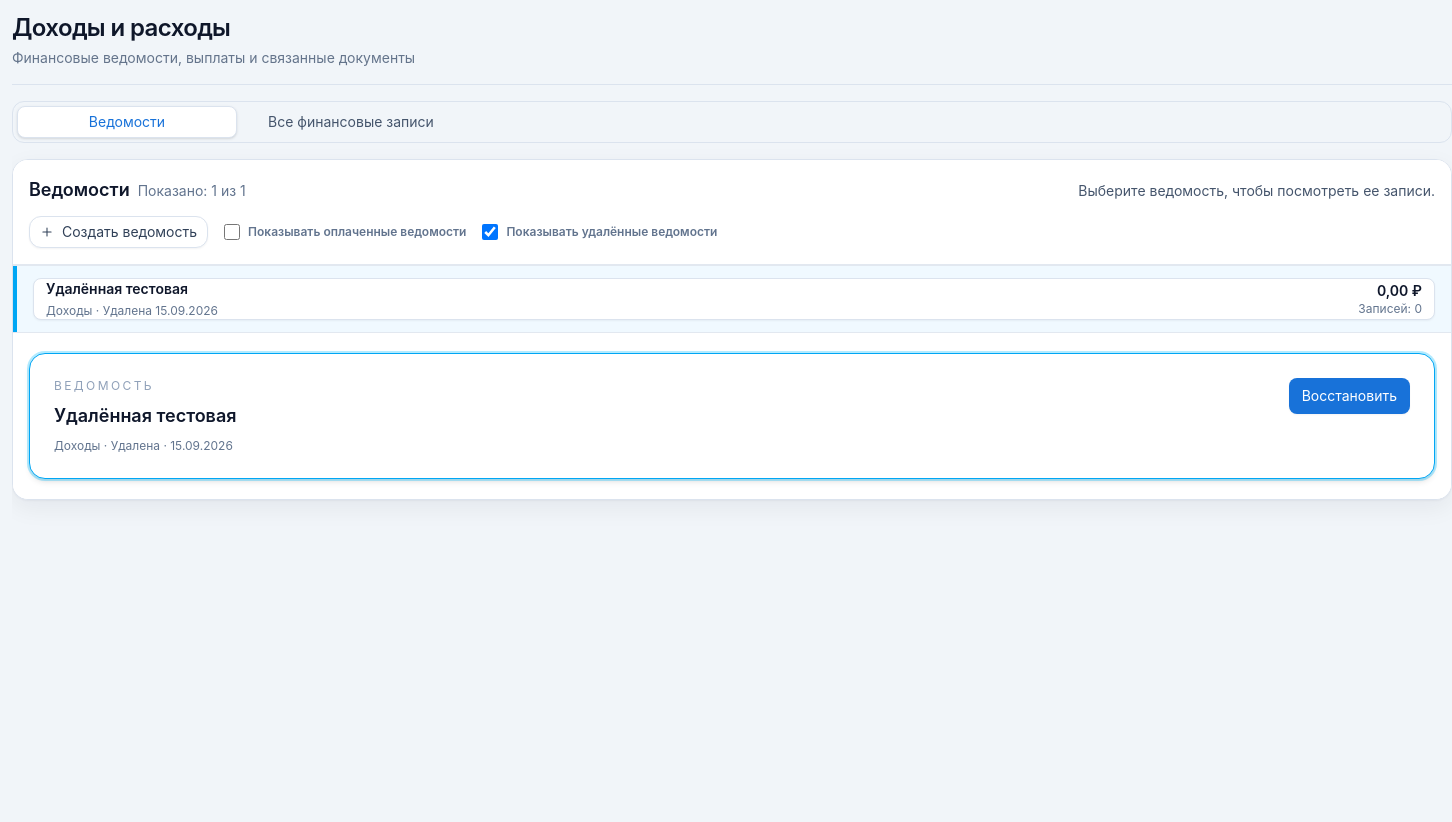
deleted statements › shows only restore action for a deleted card and hides it when the filter is cleared
The image size is (1452, 822).
Expected: the button "Восстановить" is shown, [1289,378,1410,414]
Click the checkbox labelled "Показывать удалённые ведомости". click: (490, 232)
box: [482,224,498,240]
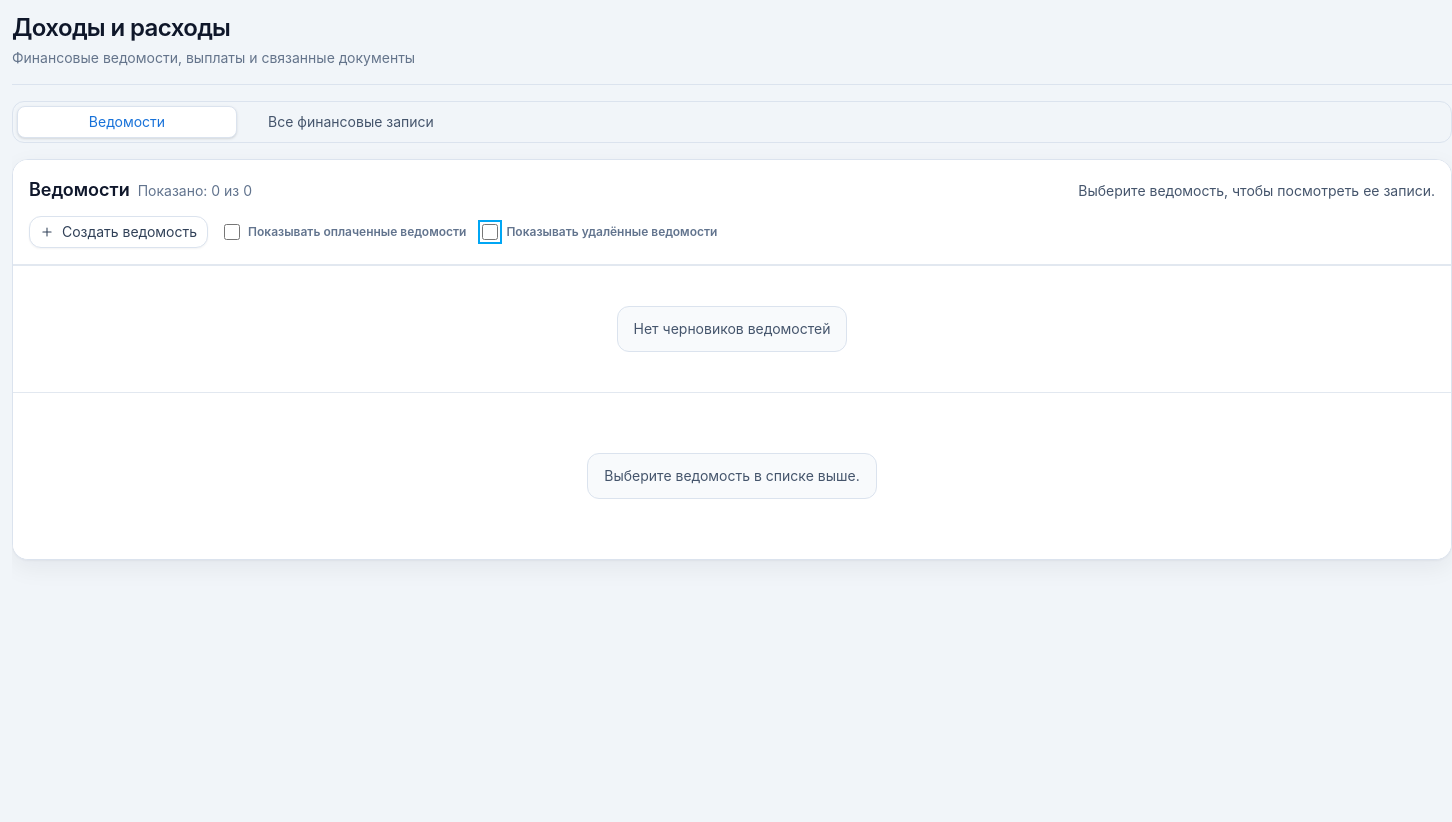
Expected: no buttons "Удалённая тестовая" are shown
